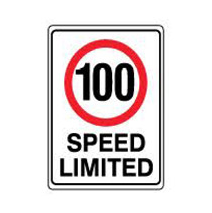Speed_limit_100km: (63, 39, 148, 127)
